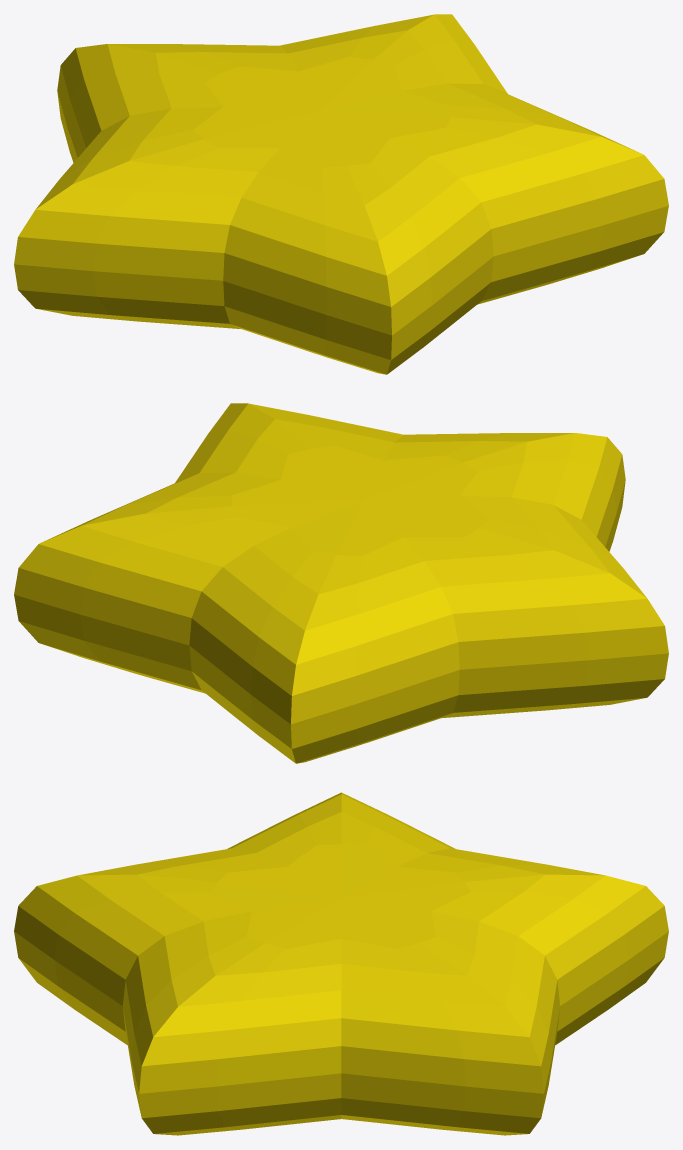
The model's file is Star.fbx.
3 views of the same model, one above another, from view 1: azimuth 30°, elevation 25°; view 2: azimuth 150°, elevation 25°; view 3: azimuth 270°, elevation 25° (orthographic). The views are drawn at different scales.
Parts seen in each view (by area): view 1: Star.002; view 2: Star.002; view 3: Star.002.
Boxes of the visible parts, <box> form: Star.002: <box>14,14,668,374</box>; Star.002: <box>14,403,668,763</box>; Star.002: <box>14,792,668,1135</box>.
Bounding box in the file's own units: 13.71 × 3.77 × 14.42.
